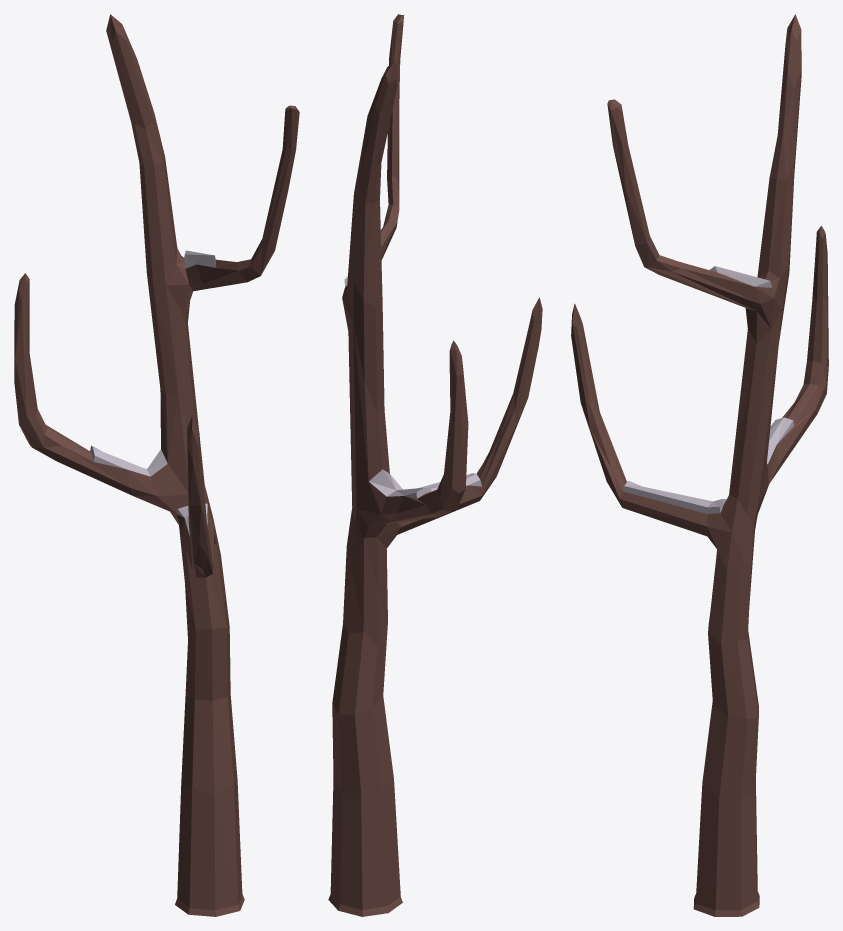
Rendered from CommonTree_Dead_Snow_3.lod1.glb.
3 views of the same model, side by side, from view 1: azimuth 30°, elevation 25°; view 2: azimuth 150°, elevation 25°; view 3: azimuth 270°, elevation 25° (orthographic). The views are drawn at different scales.
Parts seen in each view (by area): view 1: CommonTree_Dead_Snow_3; view 2: CommonTree_Dead_Snow_3; view 3: CommonTree_Dead_Snow_3.
Part boxes in pixels (x1,y1,x2,y2): CommonTree_Dead_Snow_3: (14, 14, 299, 916); CommonTree_Dead_Snow_3: (328, 14, 542, 916); CommonTree_Dead_Snow_3: (571, 14, 828, 916).
Size of the model in its own units: 0.6381 by 3 by 0.8146.
